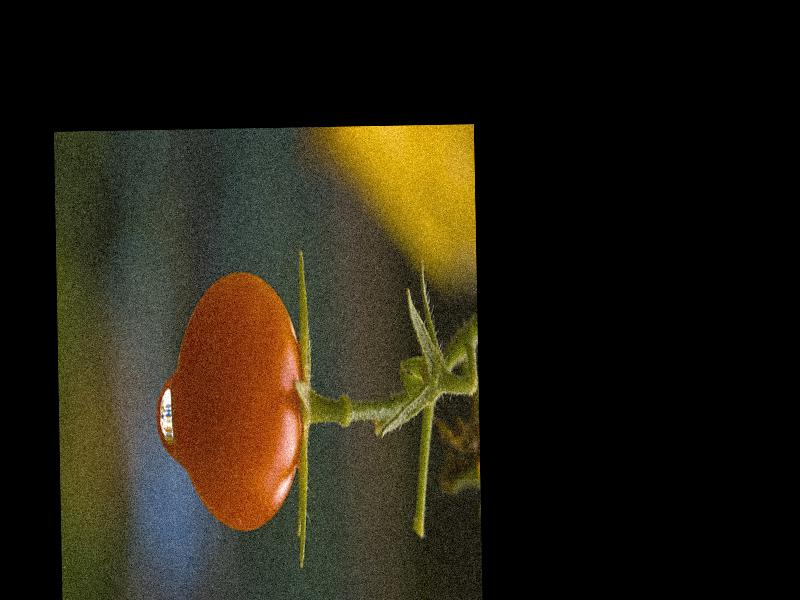Tomato: (174, 272, 305, 534)
